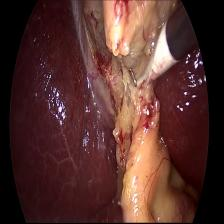Hook: (127, 21, 180, 96)
